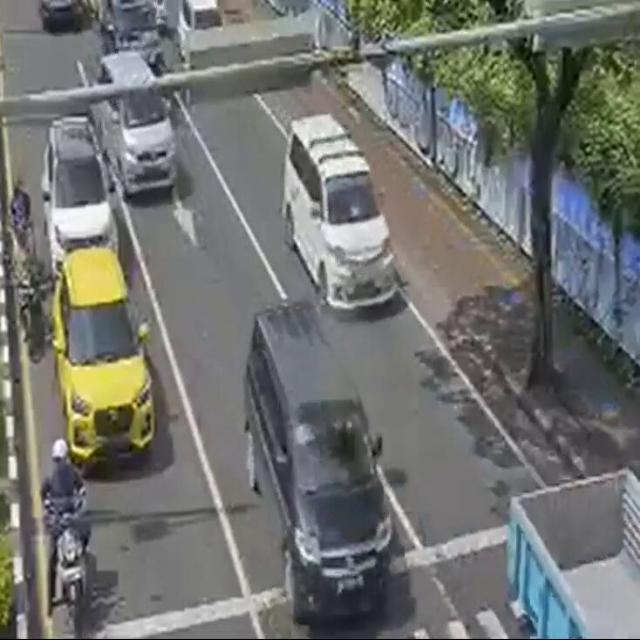car: (216, 284, 422, 626), (49, 245, 169, 468), (285, 114, 404, 311), (96, 50, 183, 206), (39, 128, 122, 276)
motorbike: (39, 436, 99, 622)
truck: (504, 464, 640, 640)
